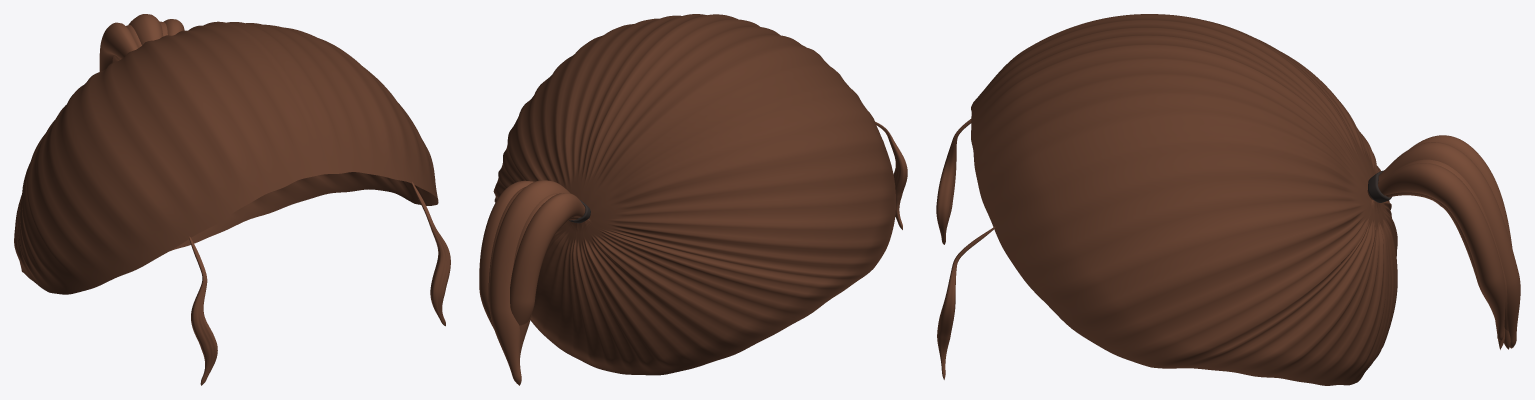
File: ponytail-cap-default.glb
3 views of the same model, side by side, from view 1: azimuth 30°, elevation 25°; view 2: azimuth 150°, elevation 25°; view 3: azimuth 270°, elevation 25° (orthographic). The views are drawn at different scales.
Visible parts, largest first — view 1: Hair / swept roots220, Hair / adjustable front216 -1, Hair / adjustable front216 1, Hair / rounded tail220 0, Hair / rounded tail220 2; view 2: Hair / swept roots220, Hair / rounded tail220 2, Hair / rounded tail220 0, Hair / rounded tail220 4, Hair / adjustable front216 -1, Hair / rounded tail220 1; view 3: Hair / swept roots220, Hair / rounded tail220 4, Hair / rounded tail220 2, Hair / adjustable front216 -1, Hair / adjustable front216 1, Hair / rounded tail220 3, Hair / rounded tail220 0.
Boxes of the visible parts, x1,y1,x2,y2 form: Hair / swept roots220: [14, 21, 438, 294]; Hair / adjustable front216 -1: [189, 236, 217, 385]; Hair / adjustable front216 1: [412, 182, 450, 326]; Hair / rounded tail220 0: [99, 22, 138, 71]; Hair / rounded tail220 2: [128, 14, 163, 45]; Hair / swept roots220: [493, 14, 895, 375]; Hair / rounded tail220 2: [489, 180, 570, 385]; Hair / rounded tail220 0: [510, 193, 590, 325]; Hair / rounded tail220 4: [479, 180, 534, 328]; Hair / adjustable front216 -1: [875, 121, 907, 229]; Hair / rounded tail220 1: [513, 193, 578, 357]; Hair / swept roots220: [971, 14, 1397, 385]; Hair / rounded tail220 4: [1367, 163, 1505, 340]; Hair / rounded tail220 2: [1378, 142, 1520, 348]; Hair / adjustable front216 -1: [936, 119, 971, 244]; Hair / adjustable front216 1: [937, 226, 995, 379]; Hair / rounded tail220 3: [1375, 159, 1508, 330]; Hair / rounded tail220 0: [1410, 135, 1512, 349].
Size of the model in its own units: 0.779 by 0.5776 by 0.9355.
